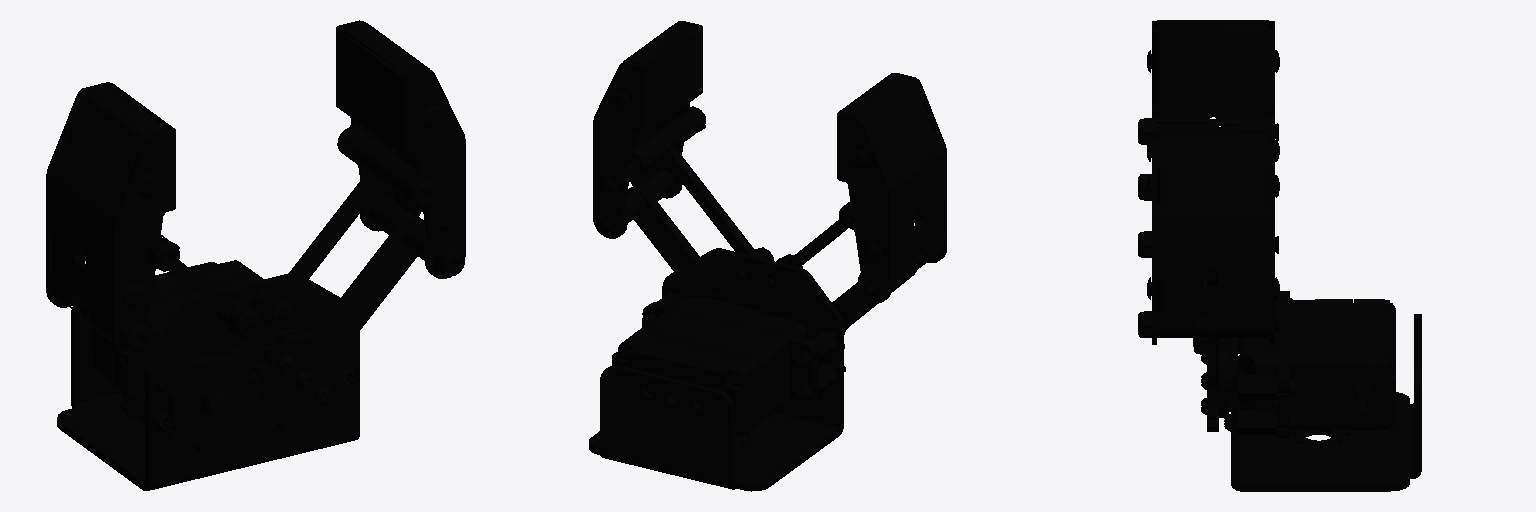
URDF robot description (bigclaw_standalone):
<robot name="bigclaw_standalone"><link name="base_link" /><link name="bigclaw_link">
    <visual>
      <origin xyz="0 0 0" rpy="0 0 0" />
      <geometry>
        <mesh filename="meshes/bigclaw/BIgClaw_simple.stl" />
      </geometry>
      <material name="BigClawMetal">
        <color rgba="0.04 0.04 0.04 1" />
      </material>
    </visual>
    <collision>
      <origin xyz="0 0 0" rpy="0 0 -1.57079632679" />
      <geometry>
        <mesh filename="meshes/bigclaw/BIgClaw_simple.stl" />
      </geometry>
    </collision>
    <inertial>
      <origin xyz="0.018 -0.01 0.05" rpy="0 0 0" />
      <mass value="0.35" />
      <inertia ixx="0.0004" ixy="0" ixz="0" iyy="0.0004" iyz="0" izz="0.00025" />
    </inertial>
  </link>
  <joint name="base_to_claw" type="fixed"><parent link="base_link" /><child link="bigclaw_link" /><origin xyz="0 0 0" rpy="0 0 0" /></joint></robot>

--- What the picture shows (computed from the rendered views, not written in the file) ---
The picture shows the robot from 3 angles, left to right: view 1: azimuth 30°, elevation 25°; view 2: azimuth 150°, elevation 25°; view 3: azimuth 270°, elevation 25°; orthographic projection.
Model bigclaw_standalone with 2 links and 1 joints (1 fixed), rooted at base_link, posed all joints at 0.
Visible links, largest first — view 1: bigclaw_link; view 2: bigclaw_link; view 3: bigclaw_link.
Link boxes in pixels (x1,y1,x2,y2): bigclaw_link: [46, 20, 465, 490]; bigclaw_link: [589, 21, 946, 491]; bigclaw_link: [1138, 20, 1421, 491].
Size in the robot's own frame: 0.0949 by 0.0736 by 0.1029 metres.
Meshes: 1 distinct files referenced, 1 mesh visuals loaded (1 binary STL).
